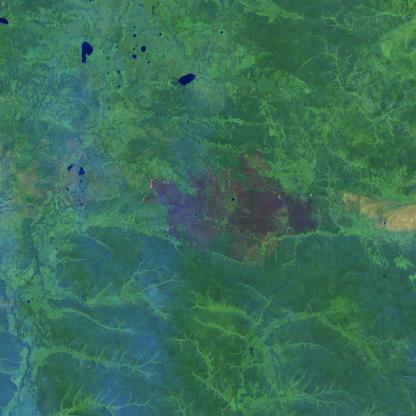fire: (141, 173, 171, 209)
